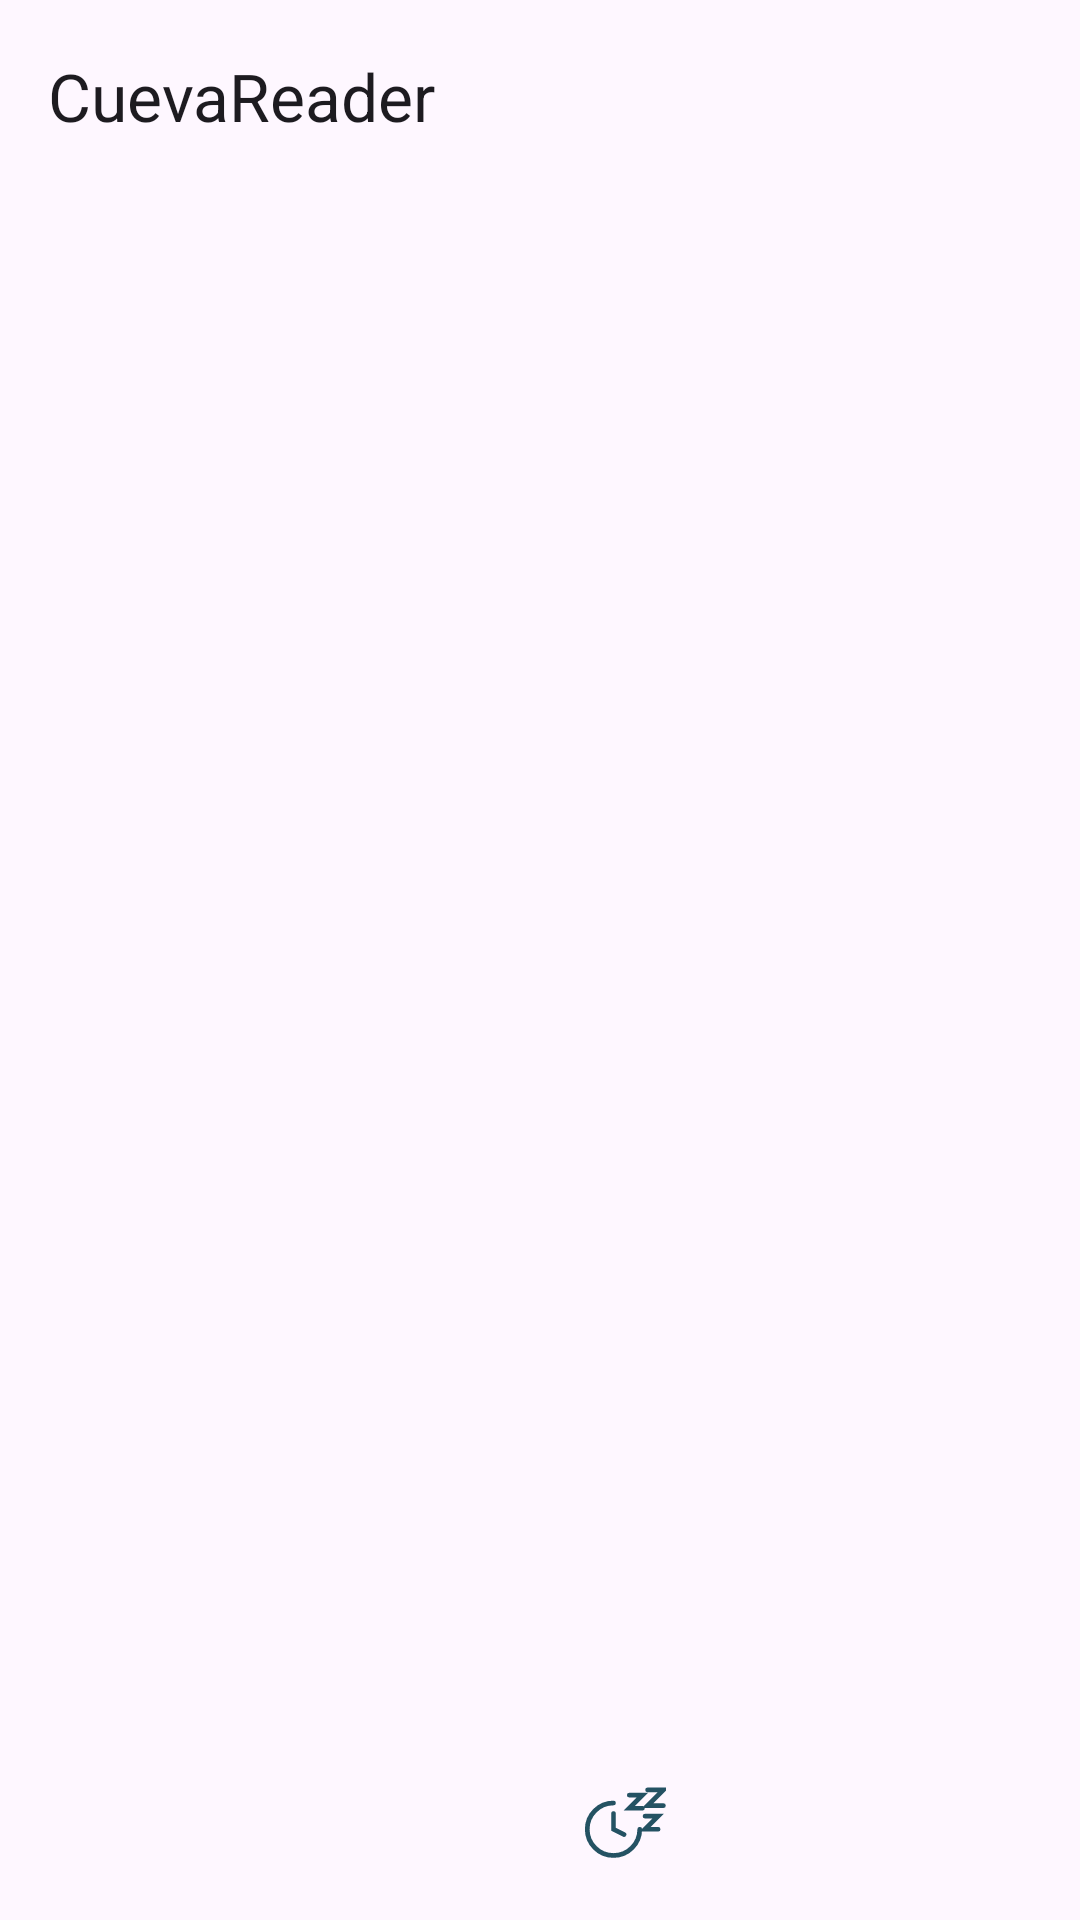

Locate icon controls on the screen. Image size 1080×1920, boxes as (x1, y1, x2, y2).
Sleep timer: (585, 1787, 666, 1858)
